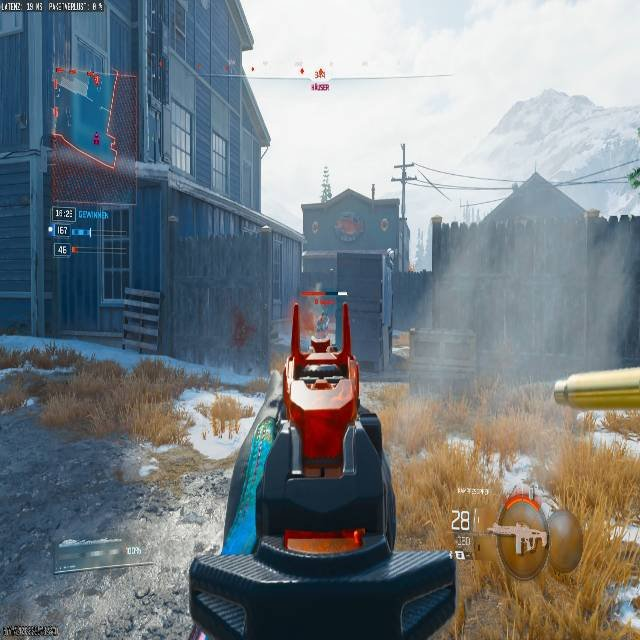player: (316, 310, 327, 332)
